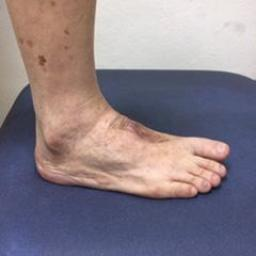Lateral View -Right Foot-: (24, 82, 234, 213)
